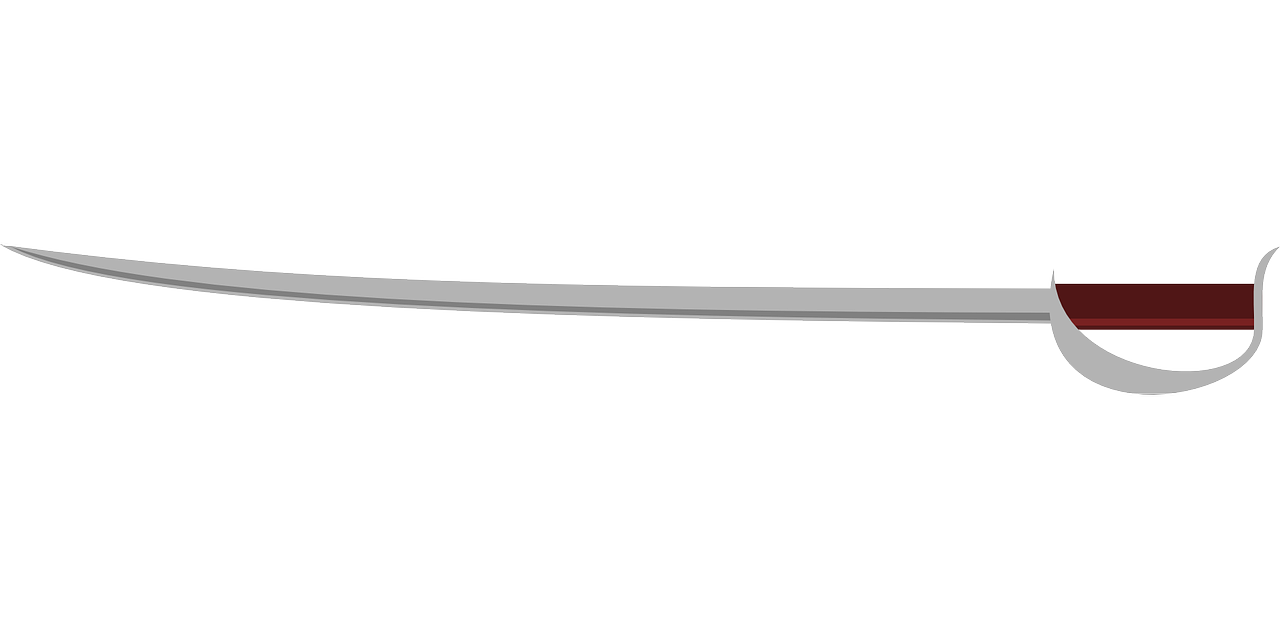knife: (0, 234, 1280, 399)
